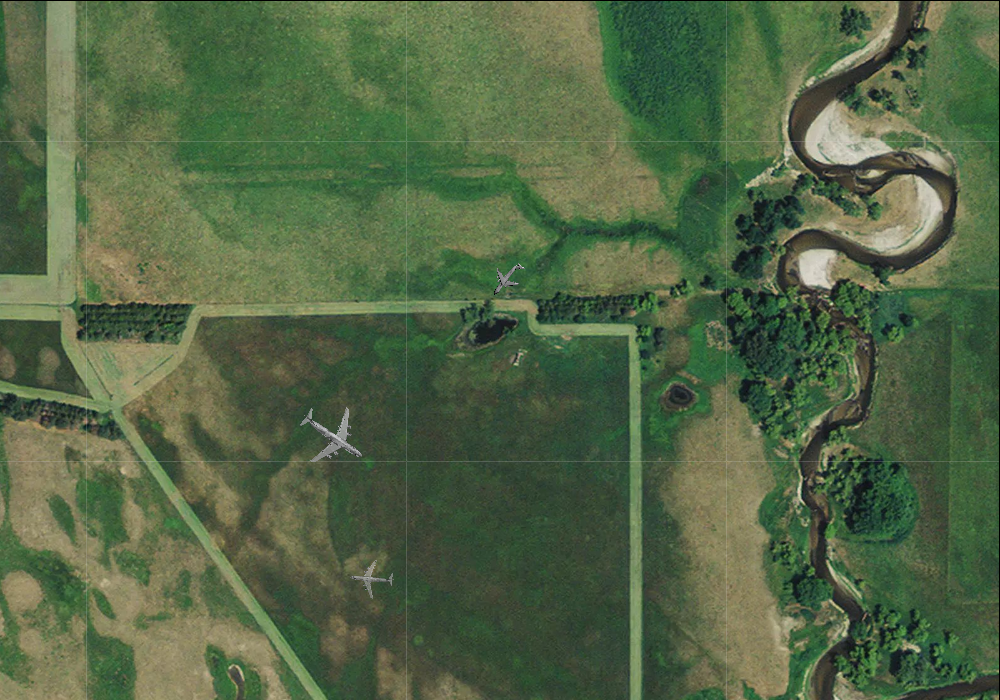plane: (284, 388, 381, 484), (482, 252, 533, 305), (348, 555, 395, 601)
